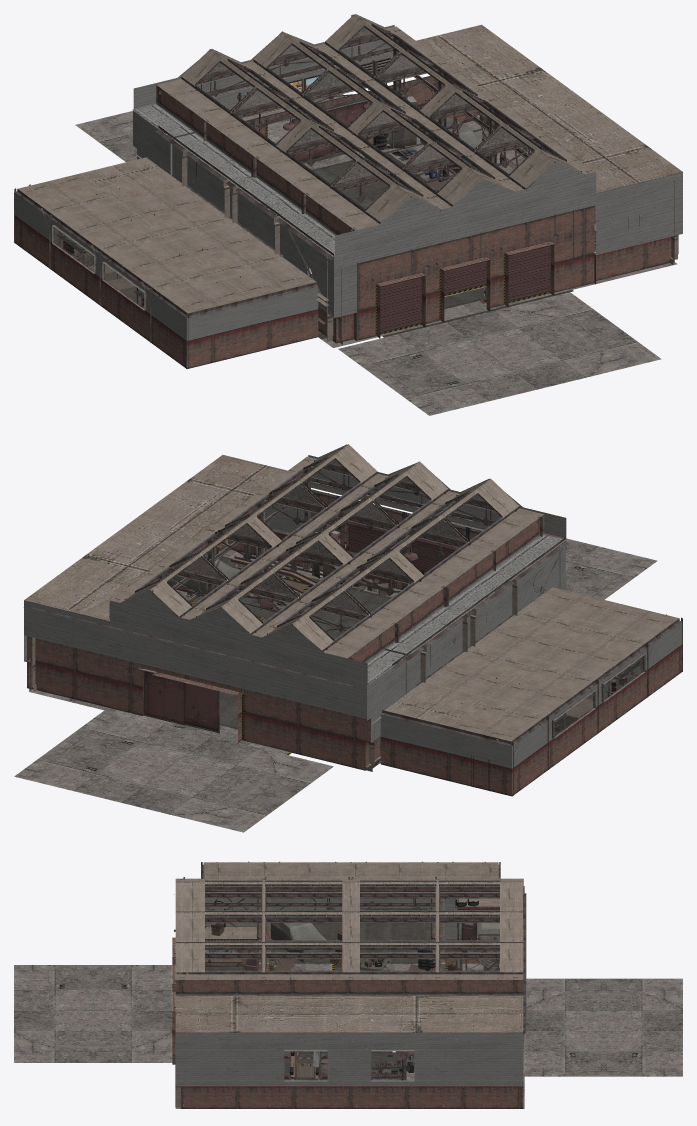
File: garage.glb
The picture shows the model from 3 angles, top to bottom: view 1: azimuth 30°, elevation 25°; view 2: azimuth 150°, elevation 25°; view 3: azimuth 270°, elevation 25°; orthographic projection. The views are drawn at different scales.
Visible parts, largest first — view 1: Garage_Building_Pillars_Conc_Combined_12626, Garage_Building_Brick_Wall_01_12690, Garage_Building_Garage_Props_01_Unlit_12674.001, Garage_Building_Conc_Floor_01_12680; view 2: Garage_Building_Pillars_Conc_Combined_12626, Garage_Building_Brick_Wall_01_12690, Garage_Building_Garage_Props_01_Unlit_12674.001, Garage_Building_Conc_Floor_01_12680; view 3: Garage_Building_Pillars_Conc_Combined_12626, Garage_Building_Brick_Wall_01_12690, Garage_Building_Garage_Props_01_Unlit_12674.001, Garage_Building_Conc_Floor_01_12680.
Part boxes in pixels (x1,y1,x2,y2): Garage_Building_Pillars_Conc_Combined_12626: (14,14,682,415); Garage_Building_Brick_Wall_01_12690: (14,14,682,368); Garage_Building_Garage_Props_01_Unlit_12674.001: (63,80,596,332); Garage_Building_Conc_Floor_01_12680: (57,153,595,337); Garage_Building_Pillars_Conc_Combined_12626: (14,444,682,832); Garage_Building_Brick_Wall_01_12690: (24,444,682,796); Garage_Building_Garage_Props_01_Unlit_12674.001: (122,493,635,790); Garage_Building_Conc_Floor_01_12680: (193,558,642,727); Garage_Building_Pillars_Conc_Combined_12626: (14,861,682,1108); Garage_Building_Brick_Wall_01_12690: (172,879,524,1108); Garage_Building_Garage_Props_01_Unlit_12674.001: (205,879,523,1080); Garage_Building_Conc_Floor_01_12680: (205,923,445,1080).
Size of the model in its own units: 27.97 by 8 by 38.5.
7 materials, 6 textured.
